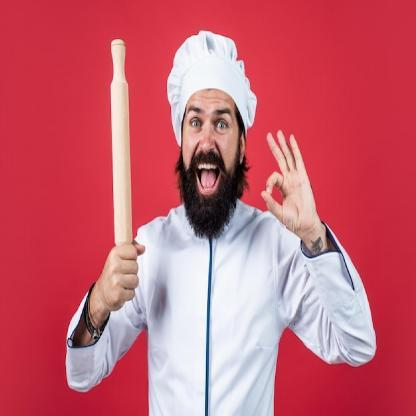ok: (259, 126, 317, 240)
